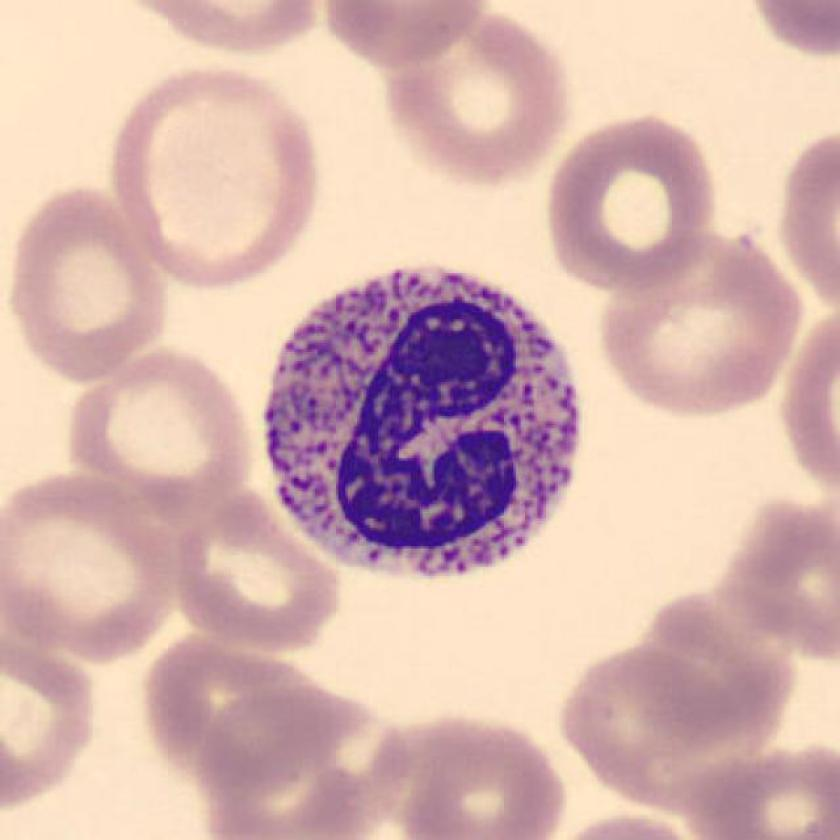neutrophil: (266, 266, 580, 581)
